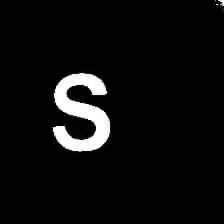LTR_S: (47, 67, 112, 154)
